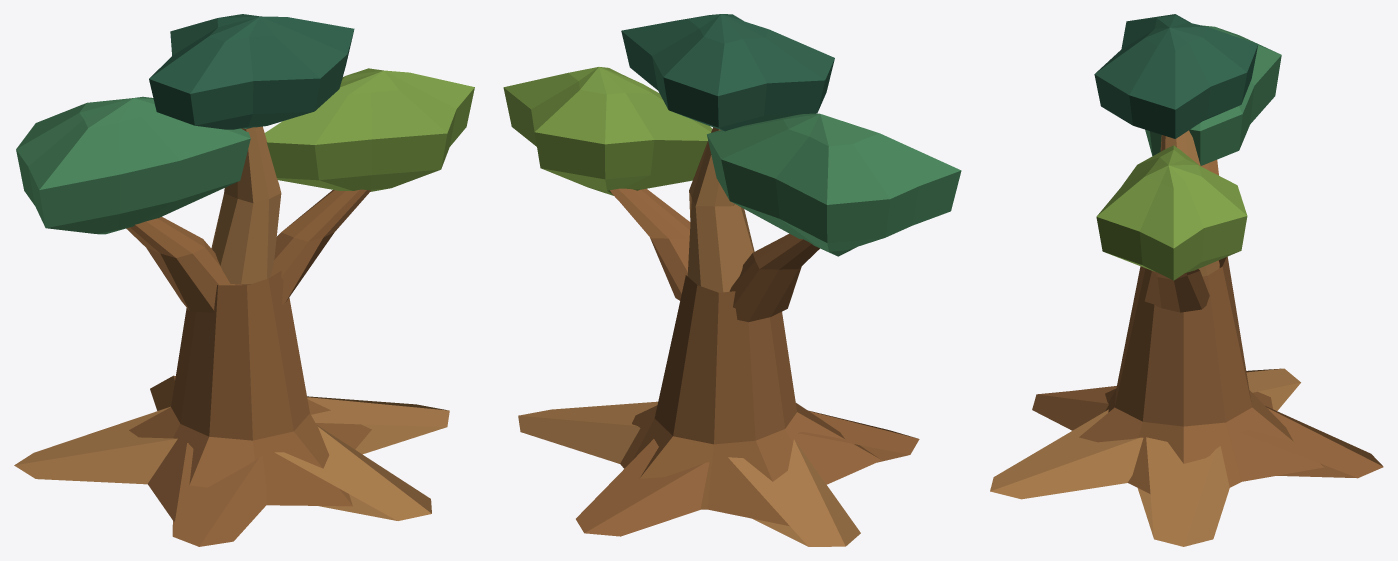
The model's file is rootbound-buttress-v3.glb.
3 views of the same model, side by side, from view 1: azimuth 30°, elevation 25°; view 2: azimuth 150°, elevation 25°; view 3: azimuth 270°, elevation 25° (orthographic). The views are drawn at different scales.
Parts seen in each view (by area): view 1: rootbound_buttress_canopy_v3; view 2: rootbound_buttress_canopy_v3; view 3: rootbound_buttress_canopy_v3.
Boxes of the visible parts, x1,y1,x2,y2 form: rootbound_buttress_canopy_v3: [14, 14, 474, 546]; rootbound_buttress_canopy_v3: [503, 14, 961, 546]; rootbound_buttress_canopy_v3: [990, 14, 1383, 546].
Size of the model in its own units: 6 by 5.73 by 4.78.
